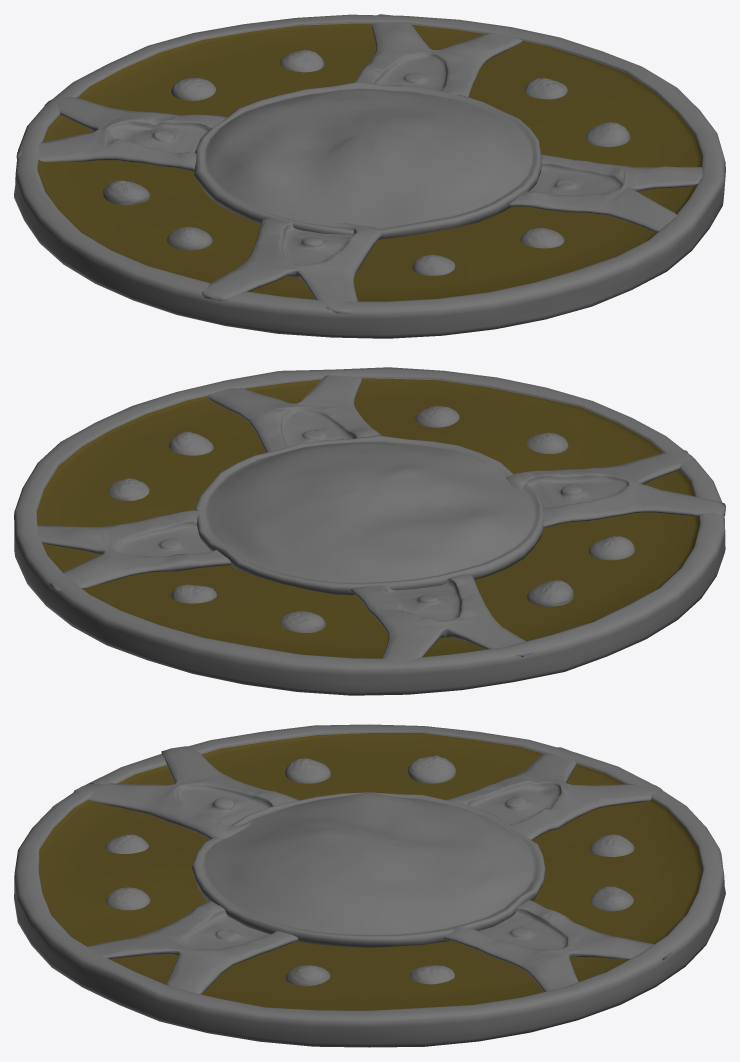
Rendered from shield.fbx.
The picture shows the model from 3 angles, top to bottom: view 1: azimuth 30°, elevation 25°; view 2: azimuth 150°, elevation 25°; view 3: azimuth 270°, elevation 25°; orthographic projection.
Parts seen in each view (by area): view 1: pCylinder9; view 2: pCylinder9; view 3: pCylinder9.
Boxes of the visible parts, x1,y1,x2,y2 form: pCylinder9: (14, 14, 725, 338); pCylinder9: (14, 367, 725, 695); pCylinder9: (14, 724, 725, 1047).
Bounding box in the file's own units: 192 × 19.64 × 192.
